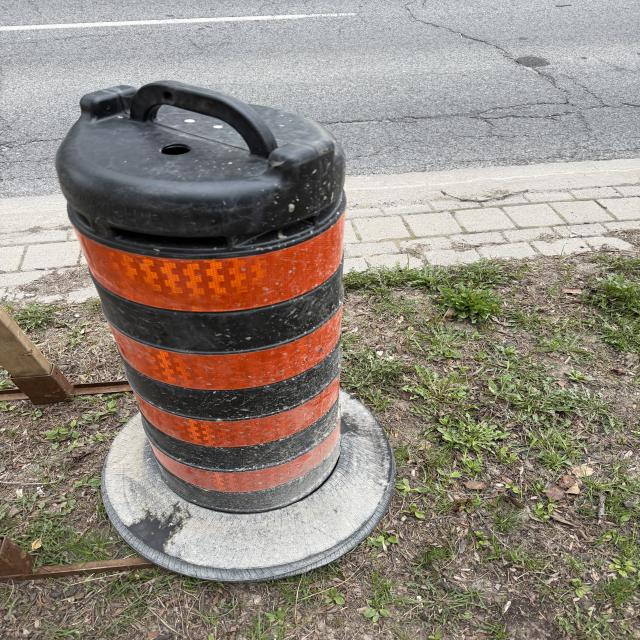Teraffic Barrel: (57, 82, 393, 579)
